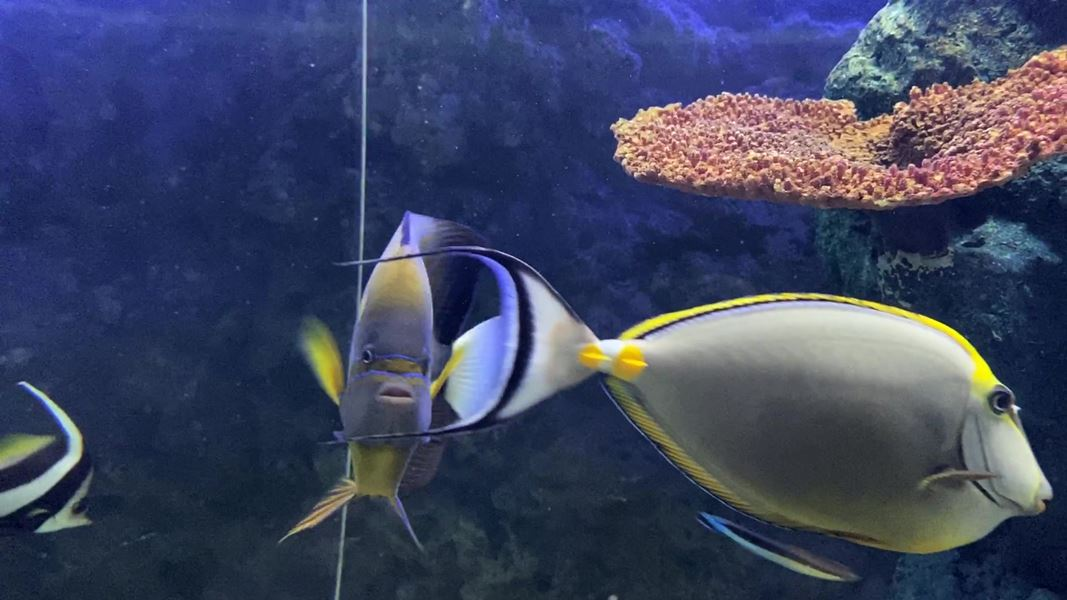Blue ring angelfish: (218, 204, 520, 575)
